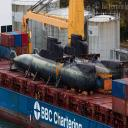submarine: (8, 47, 98, 91), (68, 34, 123, 83)
